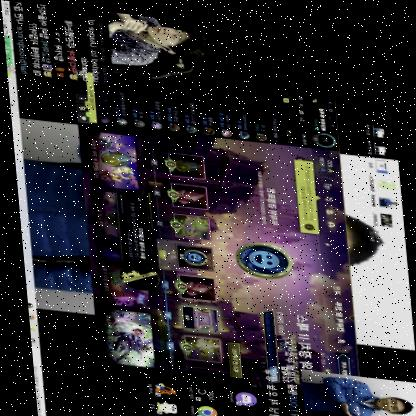donation: (256, 329, 416, 416)
streamer: (106, 9, 208, 70)
